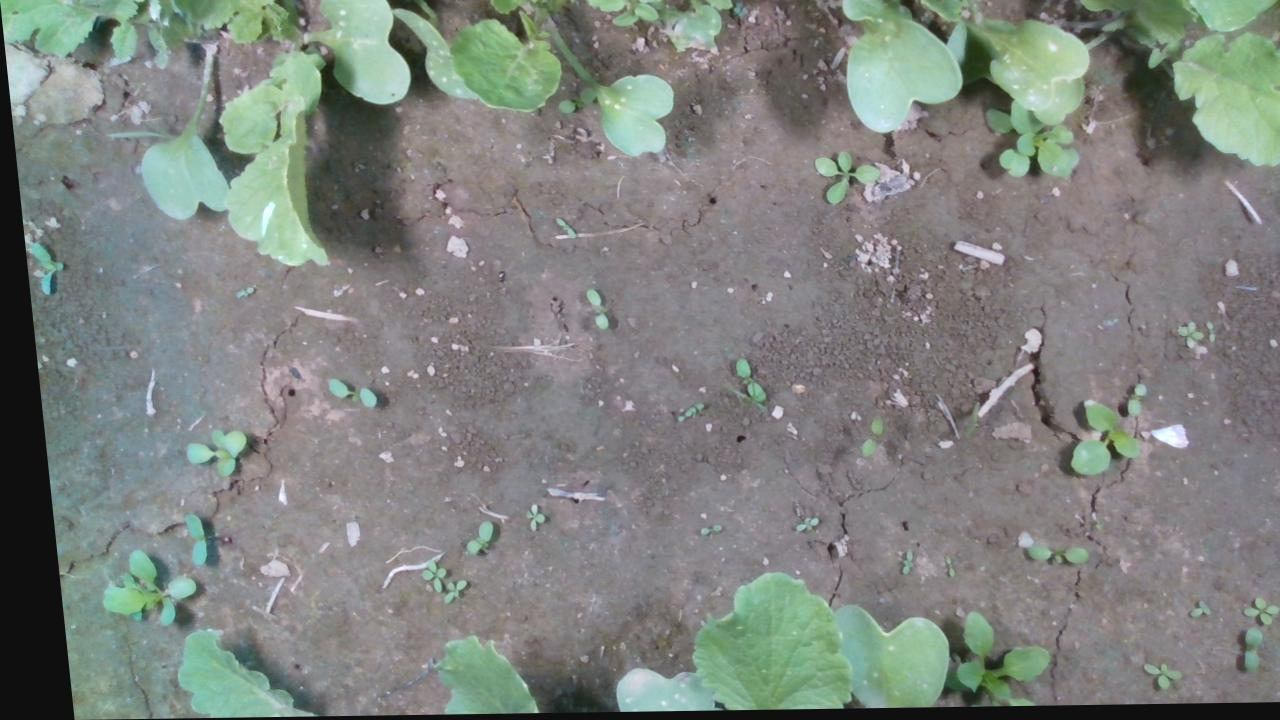weed: (806, 150, 878, 207), (315, 376, 369, 409), (169, 509, 198, 569), (724, 358, 758, 404), (1011, 545, 1076, 568), (1225, 627, 1252, 678), (1225, 597, 1266, 629), (845, 416, 874, 461), (1126, 664, 1169, 694), (575, 287, 603, 333), (450, 519, 483, 558), (405, 555, 436, 594), (1165, 322, 1197, 351), (1114, 383, 1139, 420), (511, 502, 535, 534), (547, 219, 572, 241), (886, 548, 903, 576), (780, 516, 808, 533), (1172, 603, 1197, 621), (928, 555, 942, 580), (685, 524, 711, 537), (1196, 321, 1207, 346)
